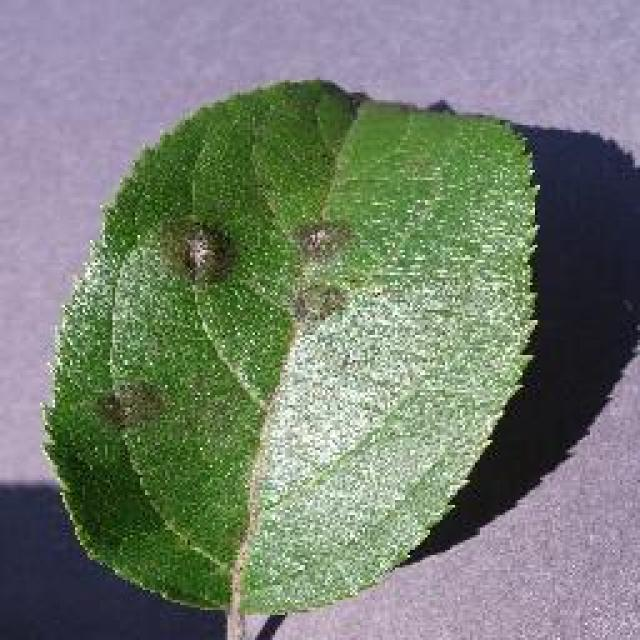apple scab disease: (37, 75, 545, 637)
